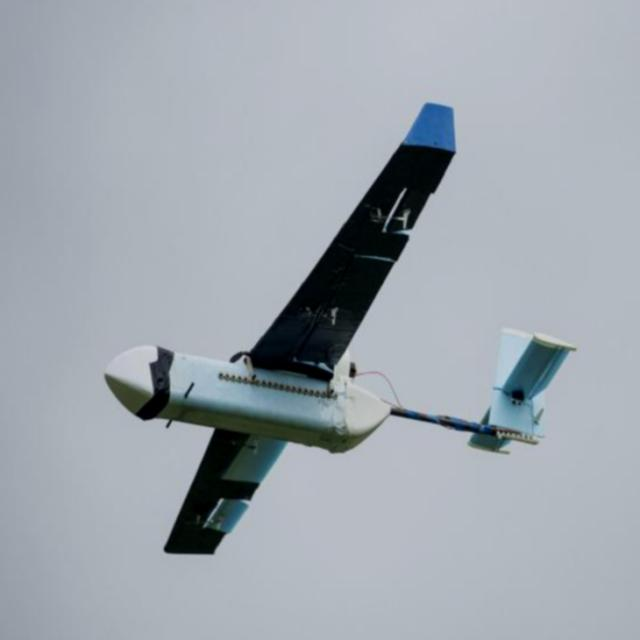plane: (104, 99, 578, 556)
